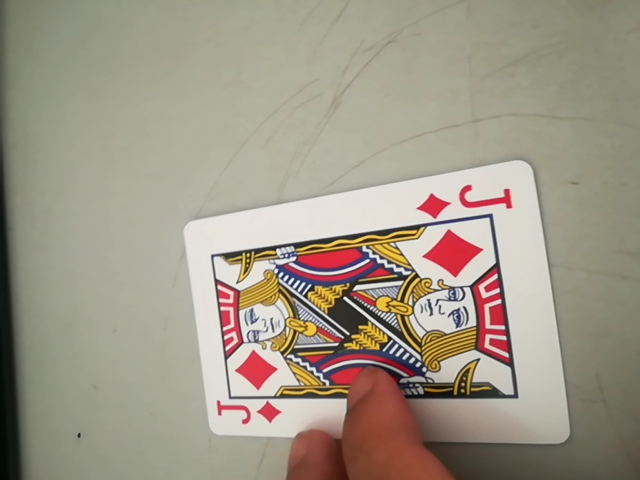fk j: (418, 180, 520, 223), (214, 394, 286, 436)
